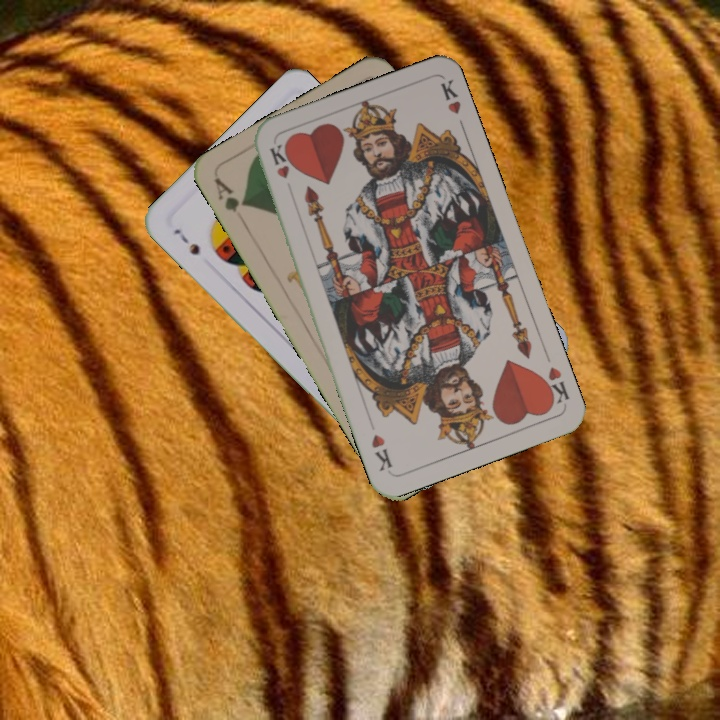GA: (210, 174, 249, 215)
HK: (536, 363, 572, 409), (265, 140, 292, 181)
S7: (169, 224, 203, 258)
